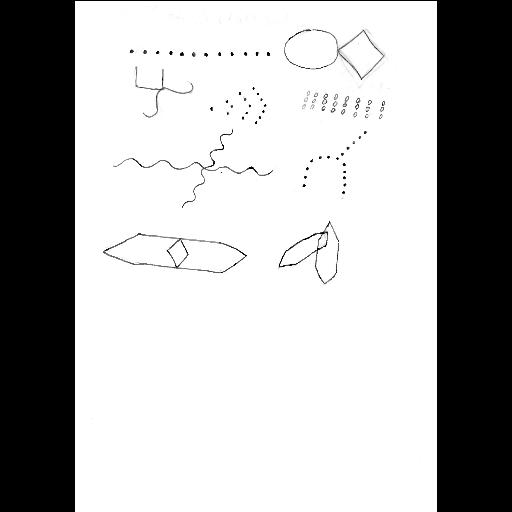shape-1: (282, 21, 386, 83)
shape-2: (124, 36, 274, 66)
shape-3: (296, 84, 388, 126)
shape-4: (206, 82, 270, 128)
shape-5: (131, 60, 195, 116)
shape-6: (298, 127, 372, 199)
shape-7: (110, 126, 274, 208)
shape-8: (272, 216, 344, 288)
shape-9: (97, 226, 247, 276)
